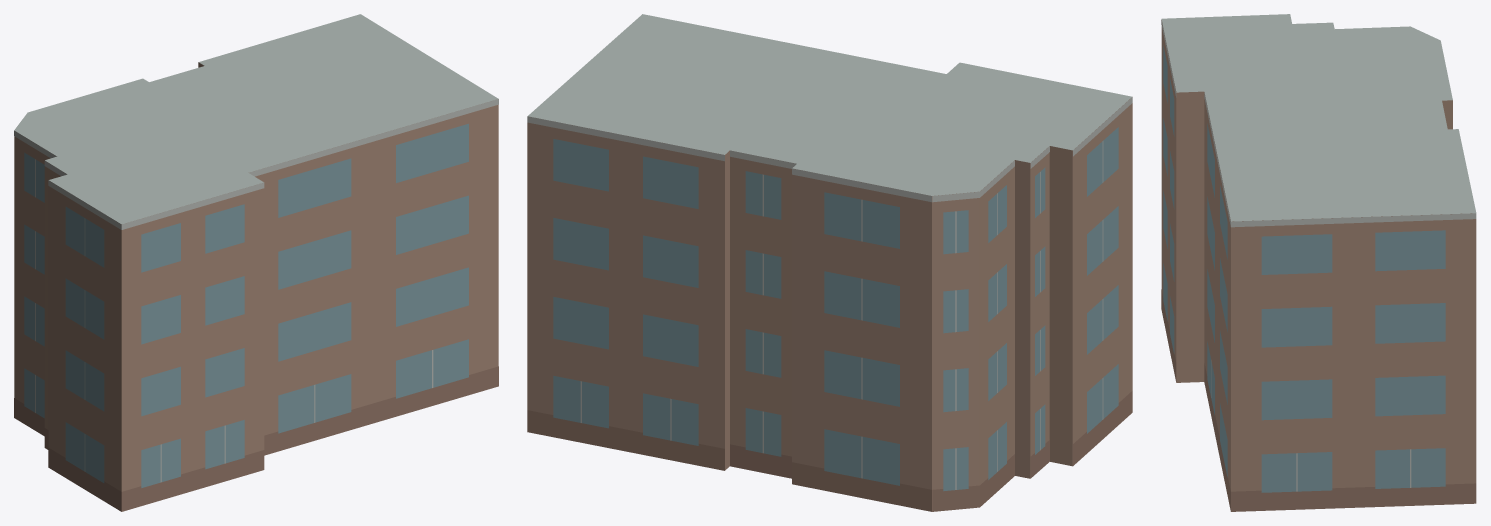
Rendered from survey-upis-32621681.glb.
The picture shows the model from 3 angles, left to right: view 1: azimuth 30°, elevation 25°; view 2: azimuth 150°, elevation 25°; view 3: azimuth 270°, elevation 25°; orthographic projection. The views are drawn at different scales.
Visible parts, largest first — view 1: survey-upis-32621681.tmp; view 2: survey-upis-32621681.tmp; view 3: survey-upis-32621681.tmp.
Boxes of the visible parts, x1,y1,x2,y2 form: survey-upis-32621681.tmp: [14, 14, 498, 511]; survey-upis-32621681.tmp: [527, 14, 1132, 511]; survey-upis-32621681.tmp: [1161, 14, 1476, 511].
Size of the model in its own units: 18.78 by 12.25 by 12.05.
